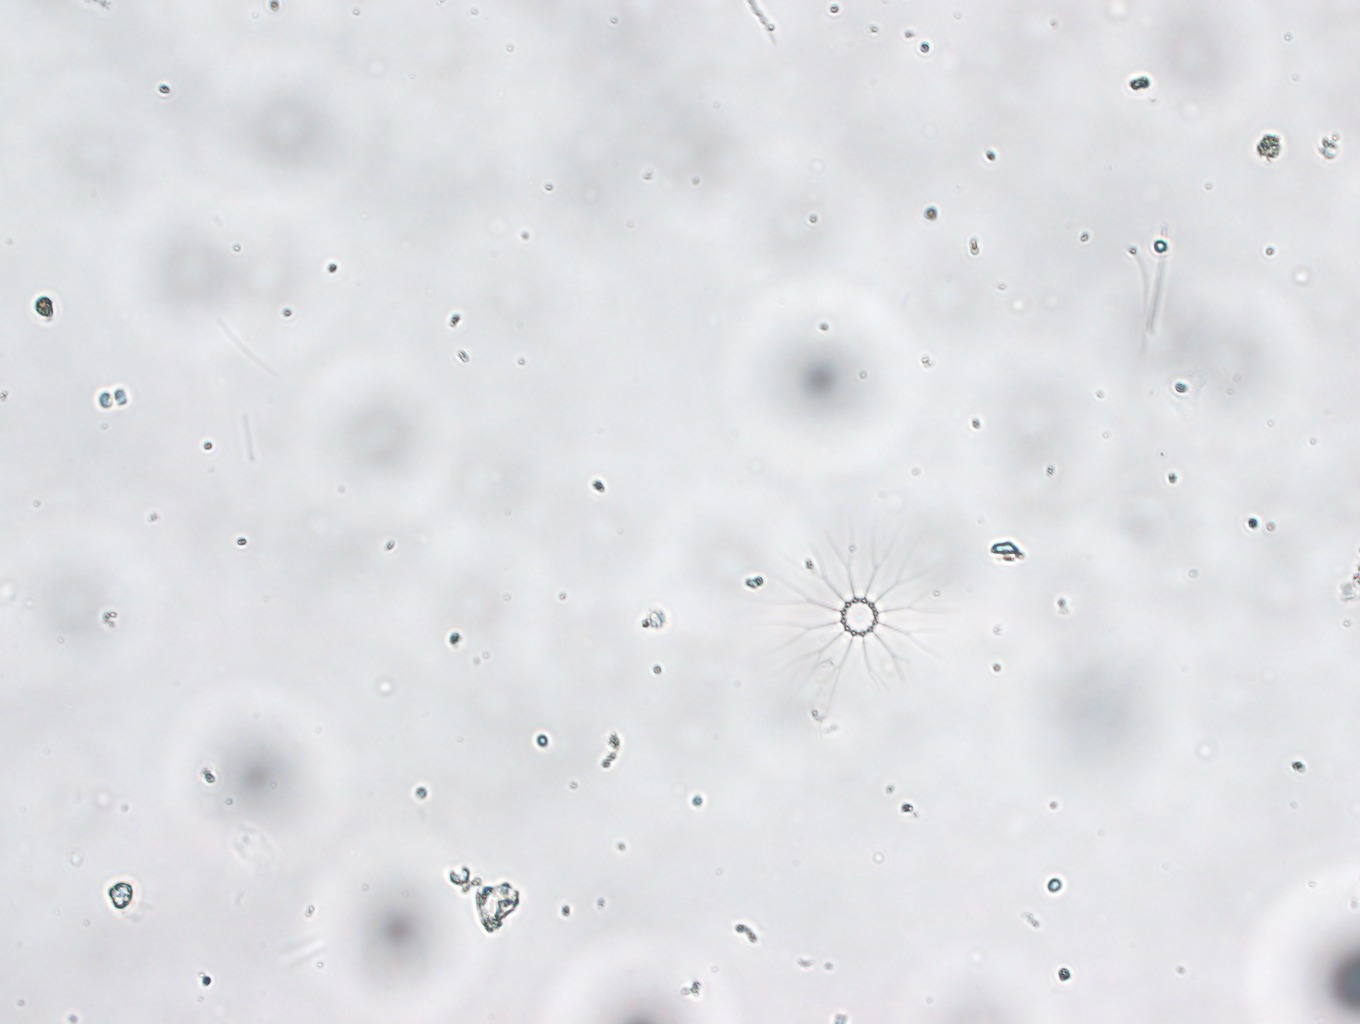bacteriastrum: (756, 520, 957, 727)
